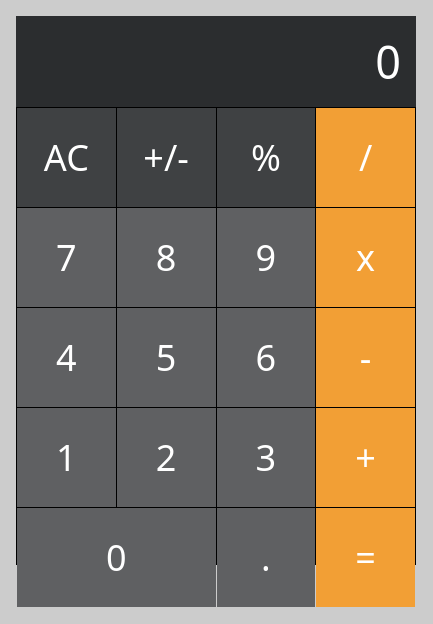
Test case: adds -14 and 5 together
The image size is (433, 624).
Step 1. Click the button with test id "operator-+/-" → (166, 158), box [117, 108, 216, 207]
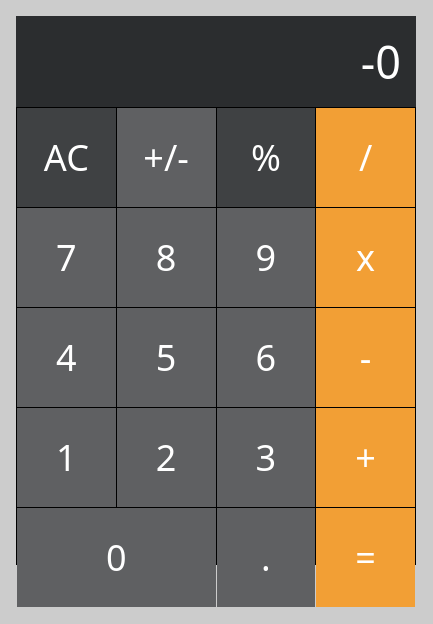
Step 2. Click the button with test id "number-1" → (66, 458), box [17, 408, 116, 507]
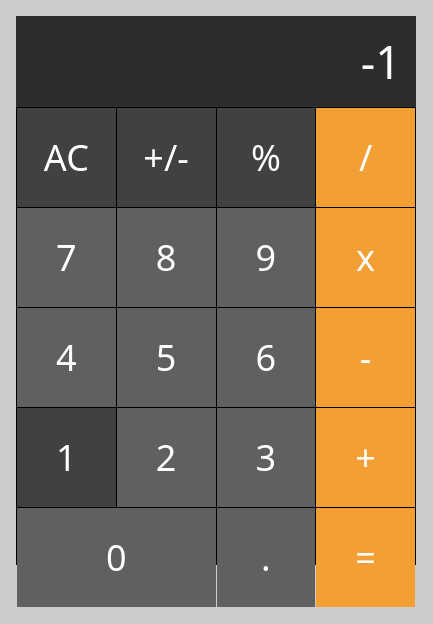
Step 3. Click the button with test id "number-4" → (66, 358), box [17, 308, 116, 407]
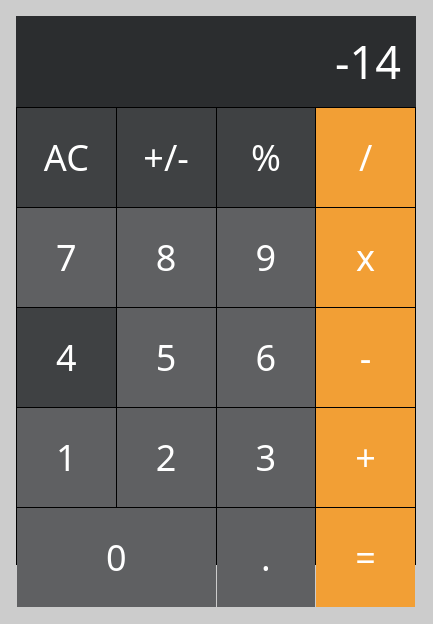
Step 4. Click the button with test id "operator-+" → (366, 458), box [316, 408, 415, 507]
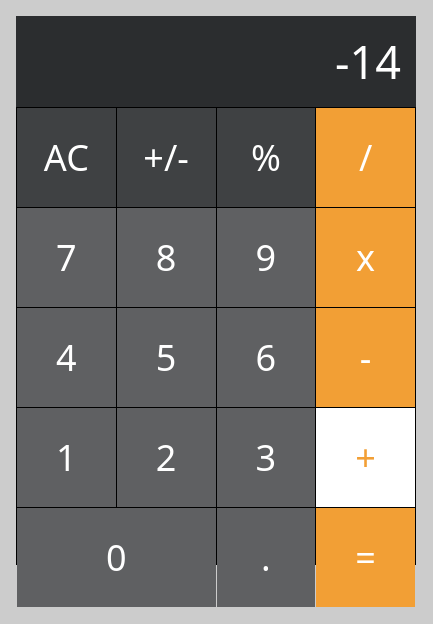
Step 5. Click the button with test id "number-5" → (166, 358), box [117, 308, 216, 407]
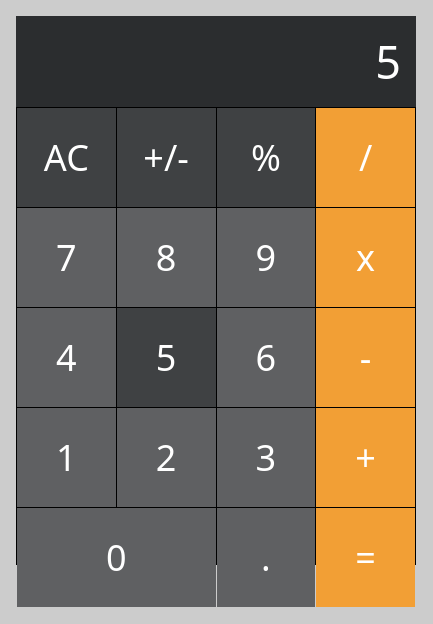
Step 6. Click the button with test id "operator-=" → (366, 558), box [316, 508, 415, 607]
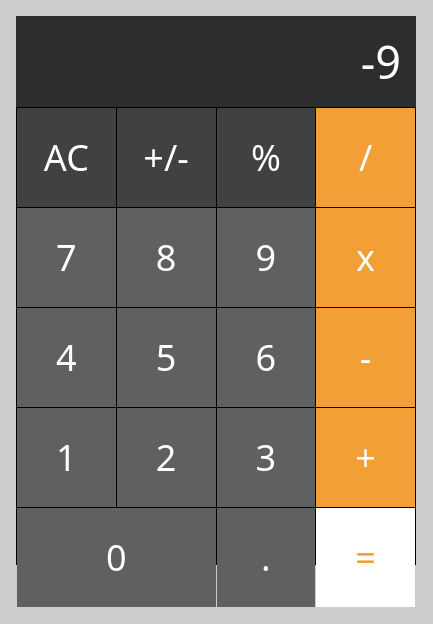
Expected: the text with test id "total" reads "-9", [361, 31, 401, 92]
